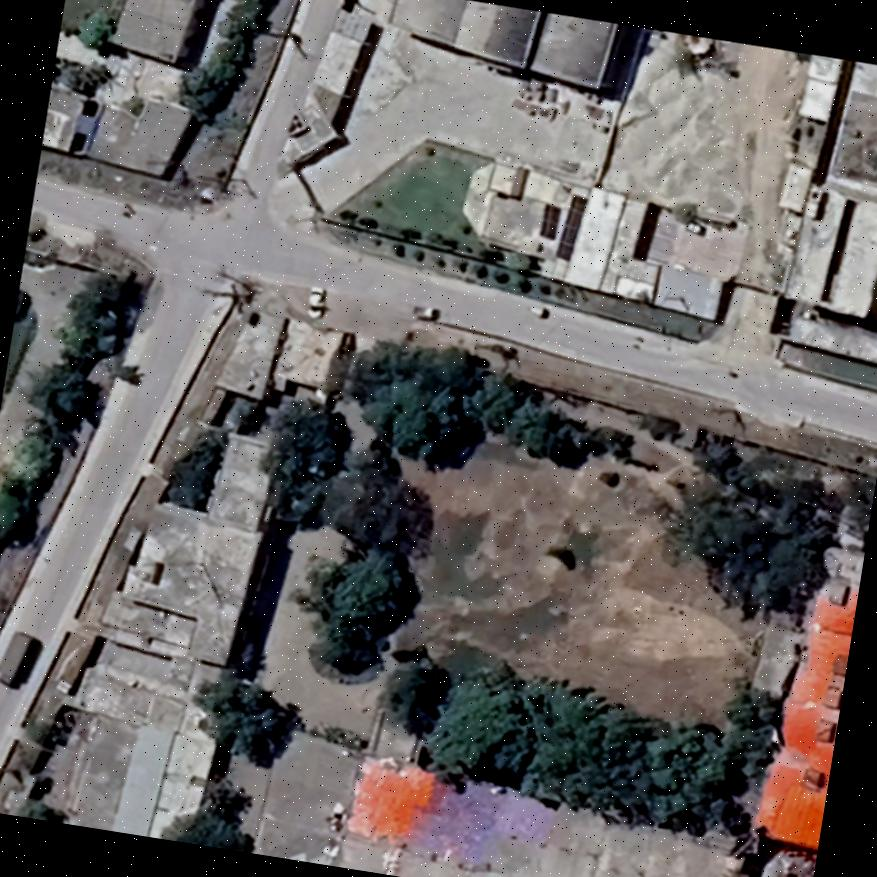Solarpanel: (549, 189, 588, 266), (536, 198, 561, 243)
